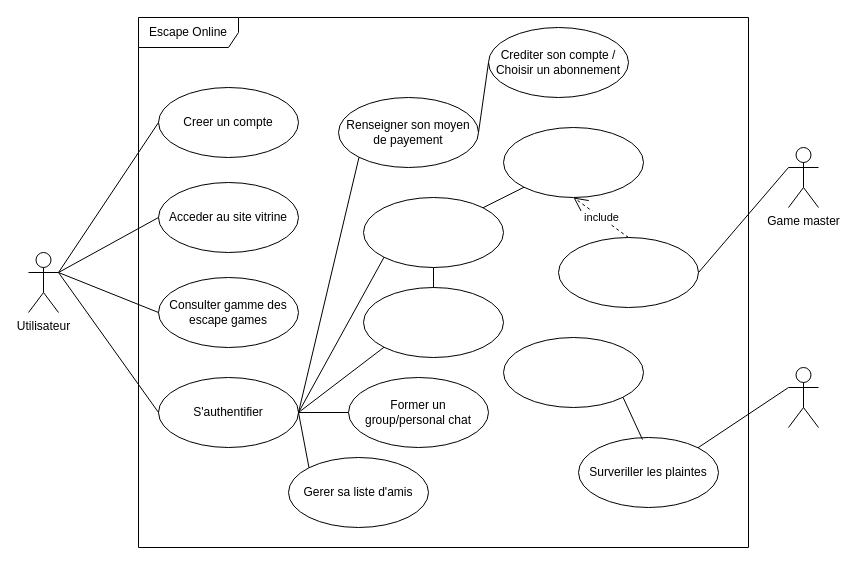
This 857x565 diagram has some shape labels left out. Each missing label, with the box of its shape:
Bannir des utilisateurs: (502, 336, 644, 408)
Former un groupe d'escape game: (362, 286, 504, 358)
Gerer une partie: (558, 236, 698, 308)
Lancer une partie escape game: (362, 196, 504, 268)
Moderator: (788, 366, 818, 428)
Partie escape game: (502, 126, 644, 198)
